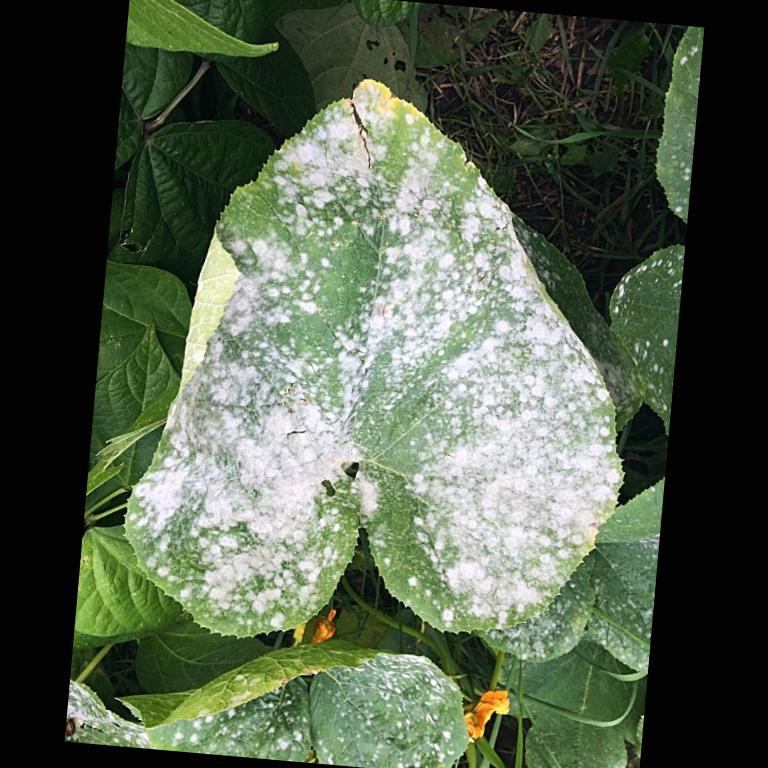powdery-mildew: (268, 164, 483, 336), (399, 347, 589, 527), (164, 396, 336, 582)
